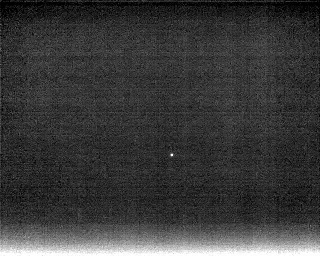BIRD: (168, 150, 176, 161)
